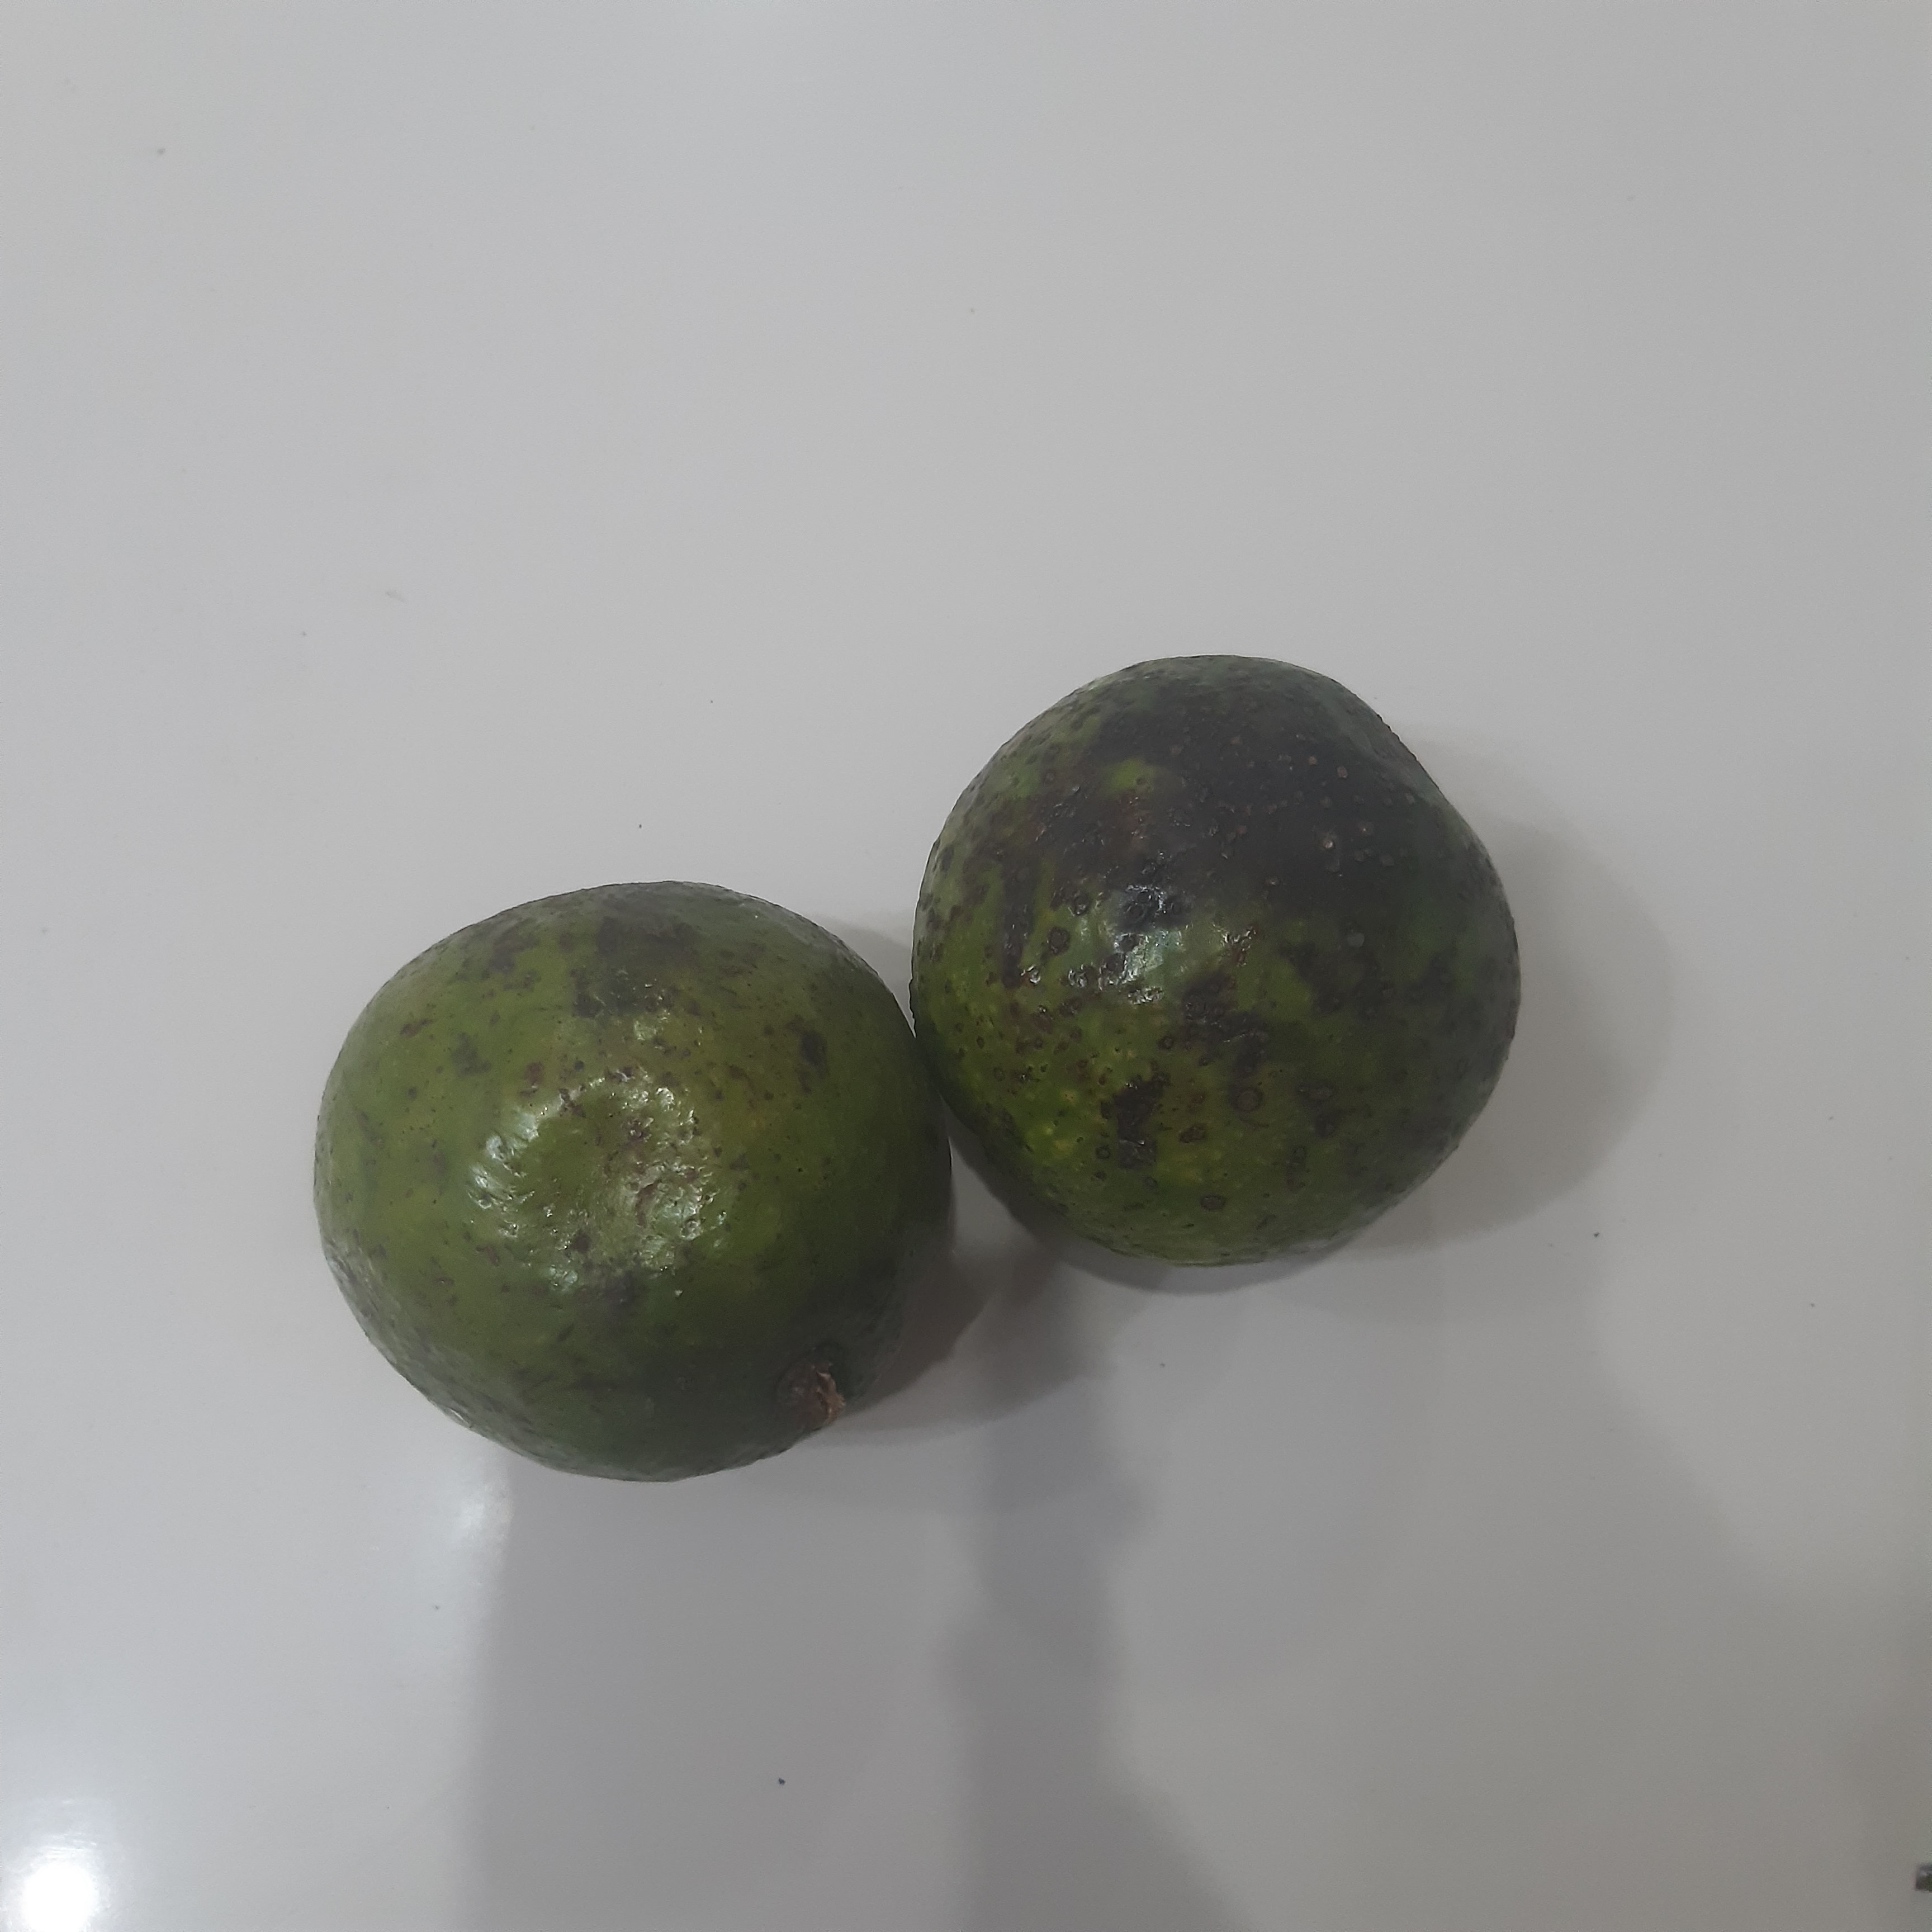Bo: (302, 878, 950, 1488), (906, 652, 1524, 1277)
